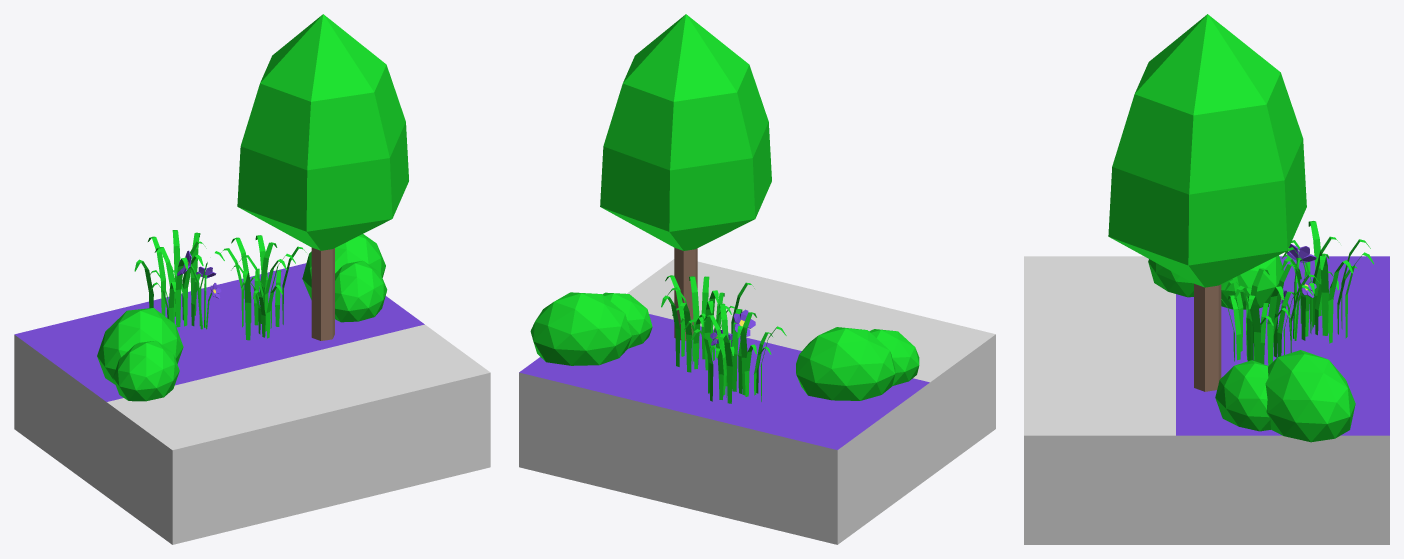
3 renders of one model, left to right at view 1: azimuth 30°, elevation 25°; view 2: azimuth 150°, elevation 25°; view 3: azimuth 270°, elevation 25°, orthographic. The views are drawn at different scales.
Parts seen in each view (by area): view 1: base.001, base, base.002; view 2: base.001, base, base.002; view 3: base.001, base, base.002.
Boxes of the visible parts, left/top/right/bottom form: base.001: left=14, top=14, right=424, bottom=401; base: left=14, top=335, right=490, bottom=544; base.002: left=107, top=324, right=490, bottom=450; base.001: left=519, top=14, right=929, bottom=449; base: left=519, top=334, right=995, bottom=544; base.002: left=626, top=259, right=995, bottom=382; base.001: left=1108, top=14, right=1389, bottom=442; base: left=1024, top=435, right=1389, bottom=544; base.002: left=1024, top=256, right=1175, bottom=435.
Size of the model in its own units: 4 by 4.77 by 3.29.
